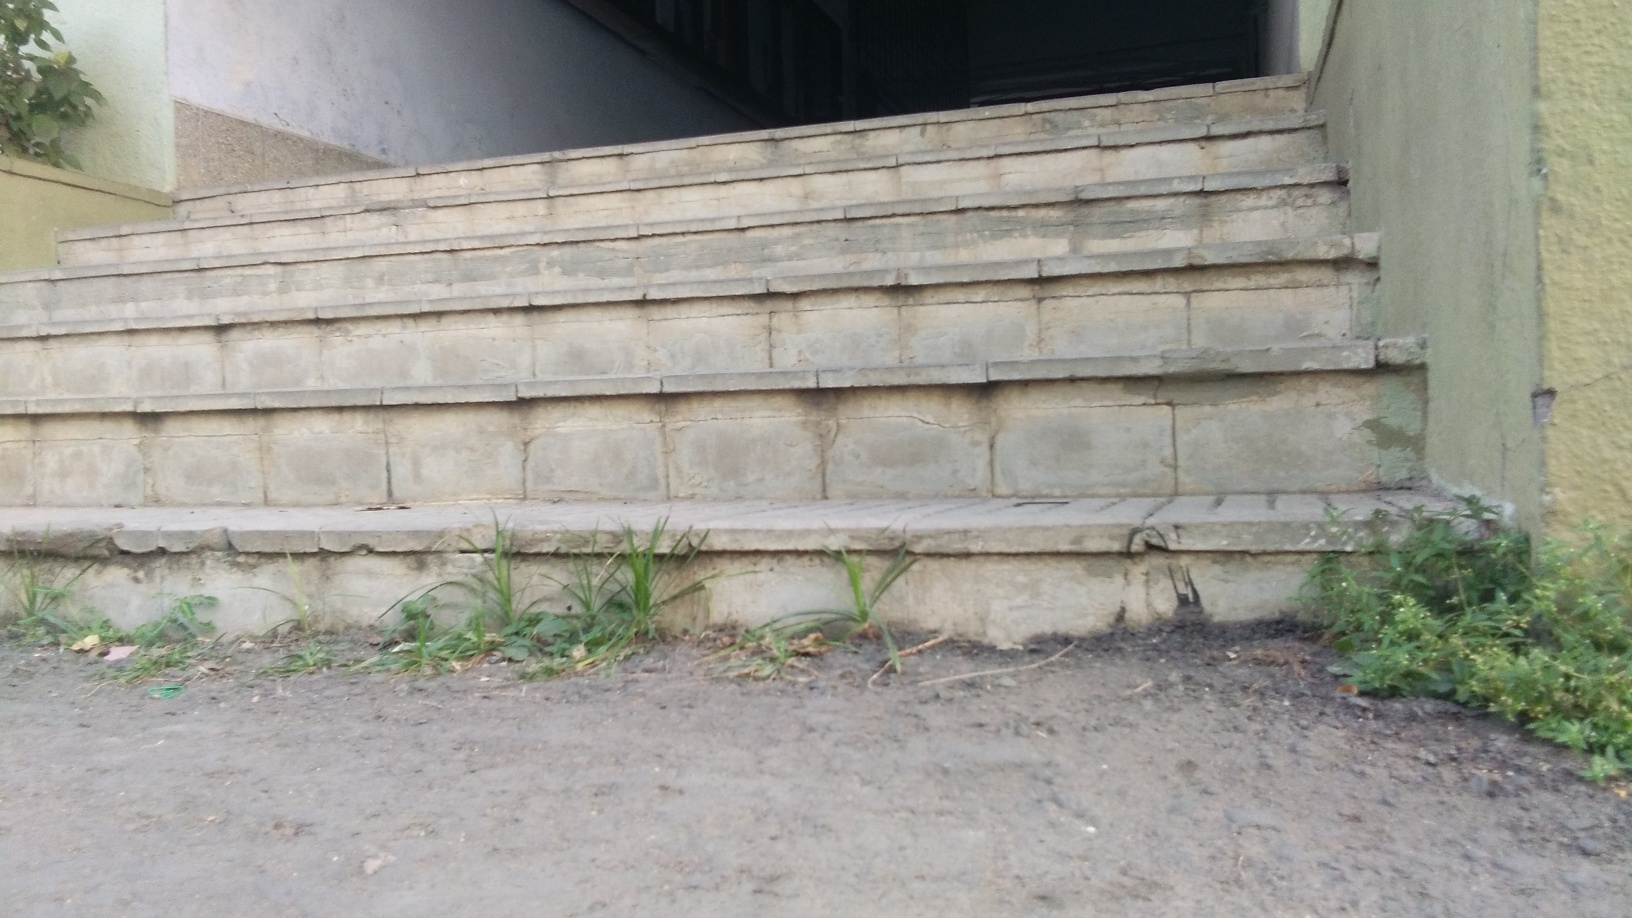stairs_up: (6, 56, 1335, 649)
